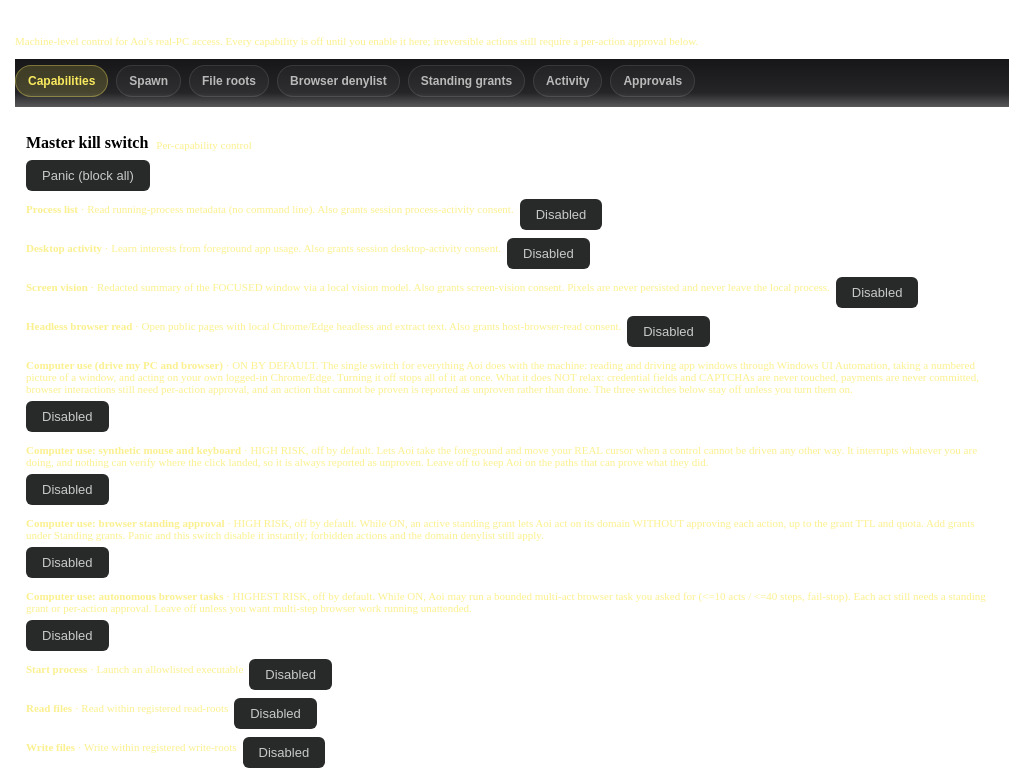
Test: AoiHostBridgeSettingsPanel › renders the capabilities and toggles one via the kill switch
expect the button with test id "aoi-host-section-capabilities" is shown: met, box [15,65,108,97]
Click the button with test id "aoi-host-cap-os_file_read".
click(276, 714)  # box [234,698,317,729]
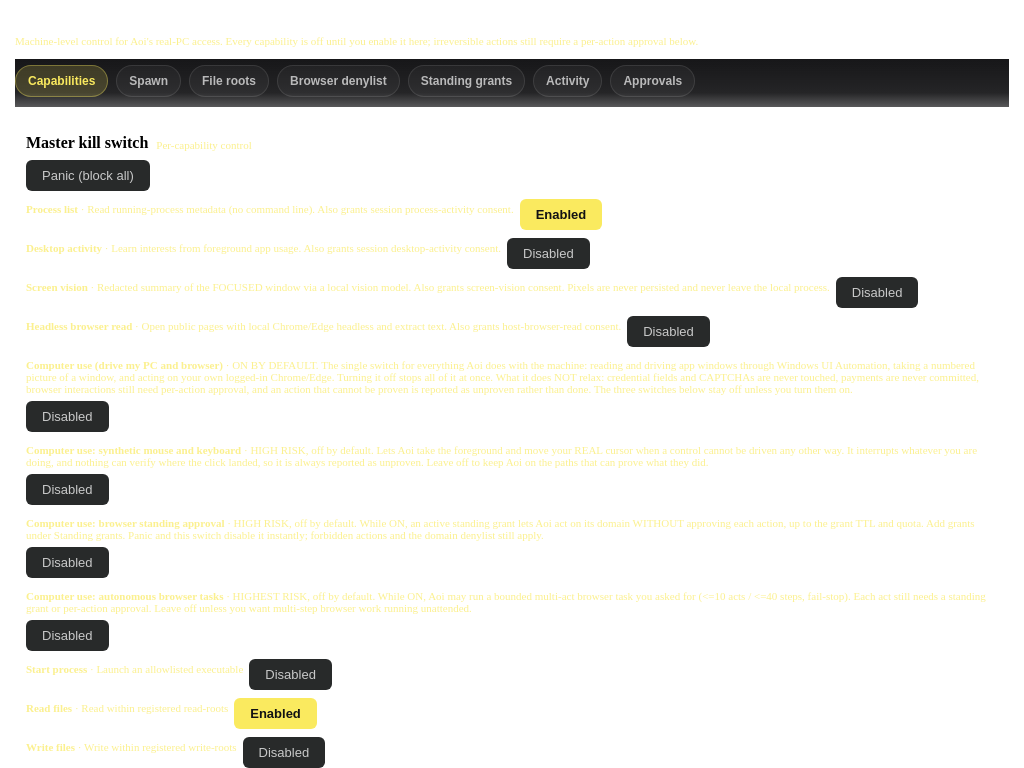
expect the button with test id "aoi-host-cap-os_file_read" reads "Enabled": met, box [234,698,317,729]
